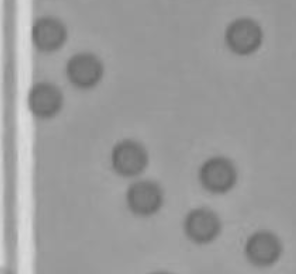cell: (220, 12, 268, 61), (195, 151, 242, 198), (106, 131, 151, 179), (179, 203, 226, 247), (241, 225, 285, 272), (62, 46, 106, 91), (122, 174, 166, 219), (23, 76, 66, 122), (28, 14, 70, 57)
